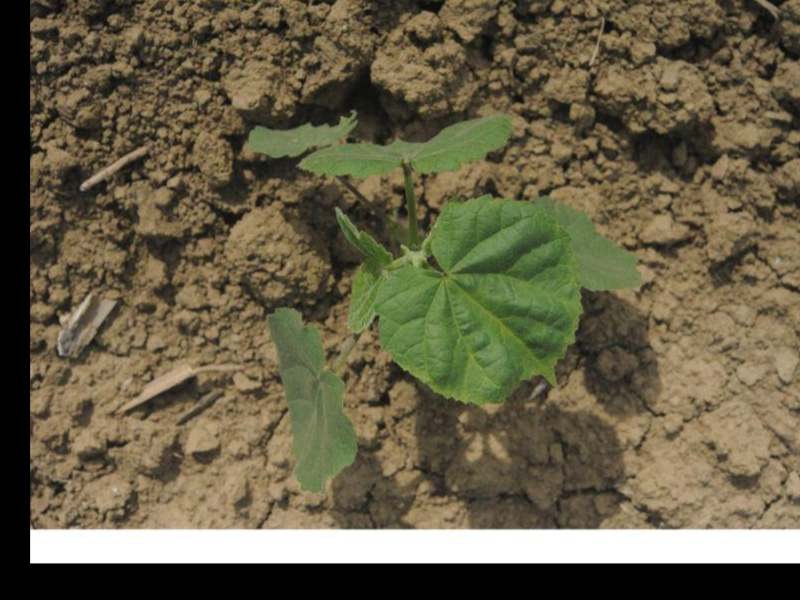velvet: (246, 110, 643, 492)
